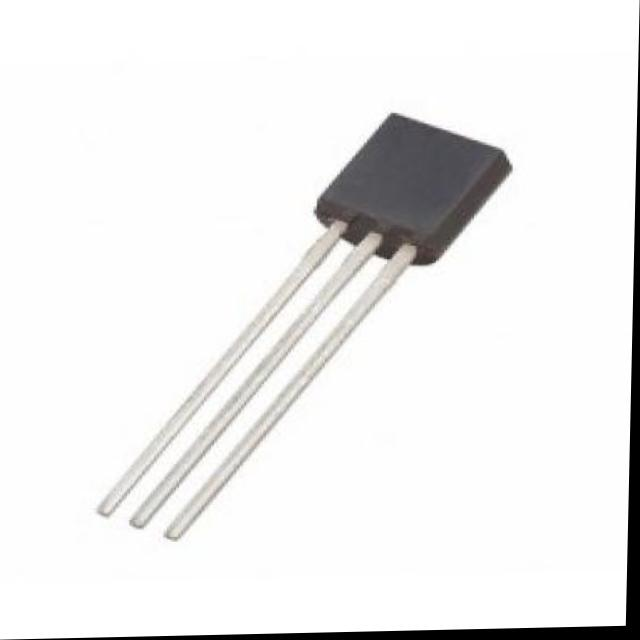Transistor: (97, 115, 515, 544)
